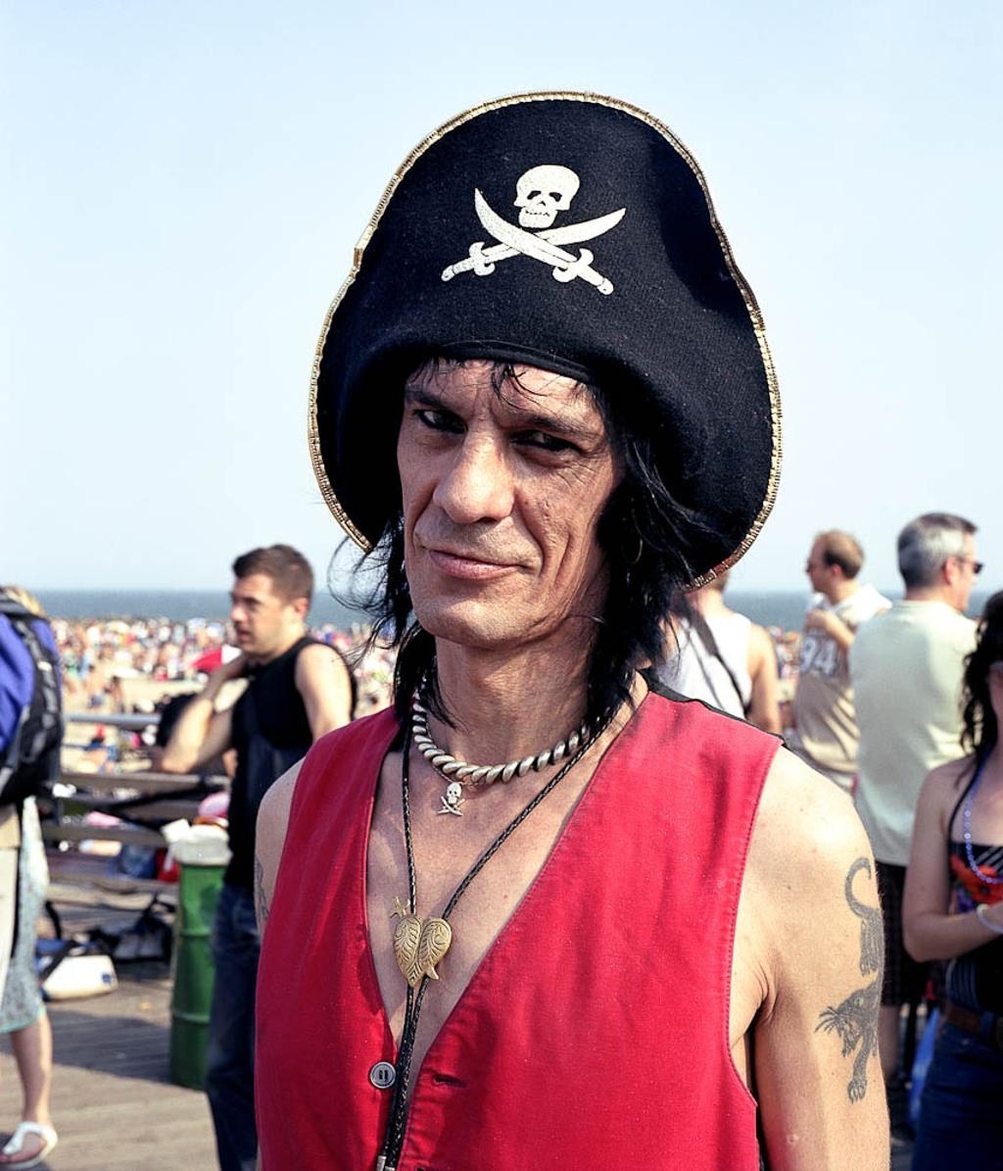human_face: (396, 349, 624, 649), (231, 573, 294, 656), (945, 542, 979, 612), (805, 541, 837, 591)
